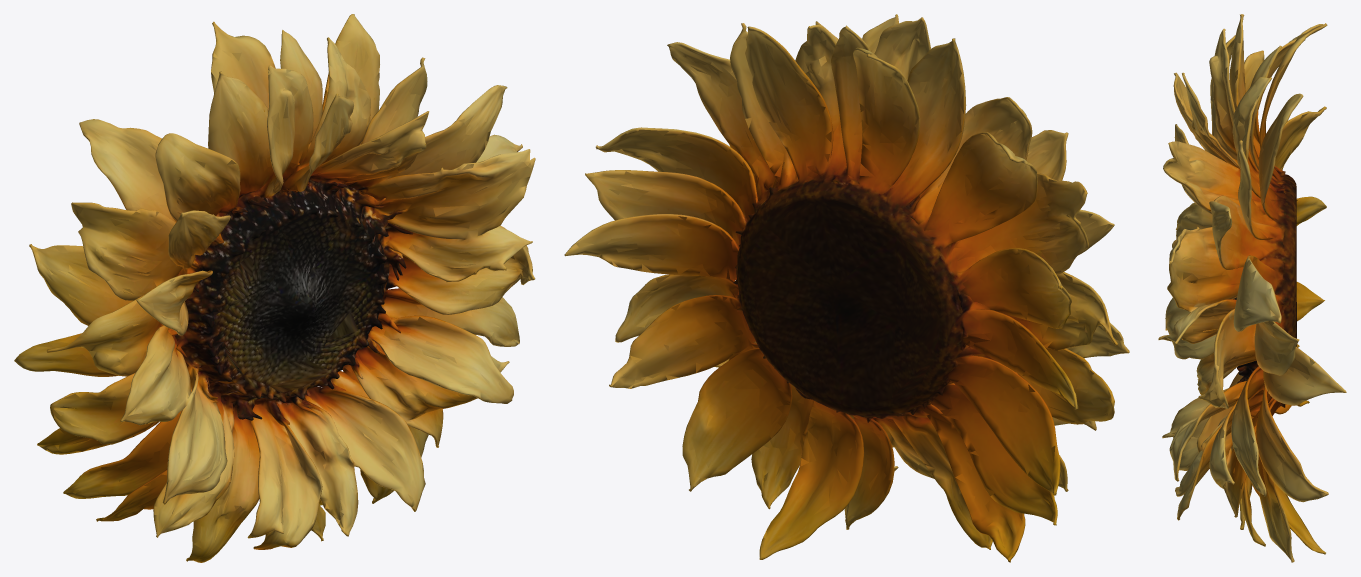
File: flower2.fbx
3 renders of one model, left to right at view 1: azimuth 30°, elevation 25°; view 2: azimuth 150°, elevation 25°; view 3: azimuth 270°, elevation 25°, orthographic. The views are drawn at different scales.
Visible parts, largest first — view 1: tripo_node_e65902bb; view 2: tripo_node_e65902bb; view 3: tripo_node_e65902bb.
Boxes of the visible parts, x1,y1,x2,y2 form: tripo_node_e65902bb: (14, 14, 535, 562); tripo_node_e65902bb: (564, 14, 1129, 562); tripo_node_e65902bb: (1158, 14, 1346, 562).
Bounding box in the file's own units: 98.14 × 34.52 × 97.9.
Materials: 1 (1 with a texture image).
